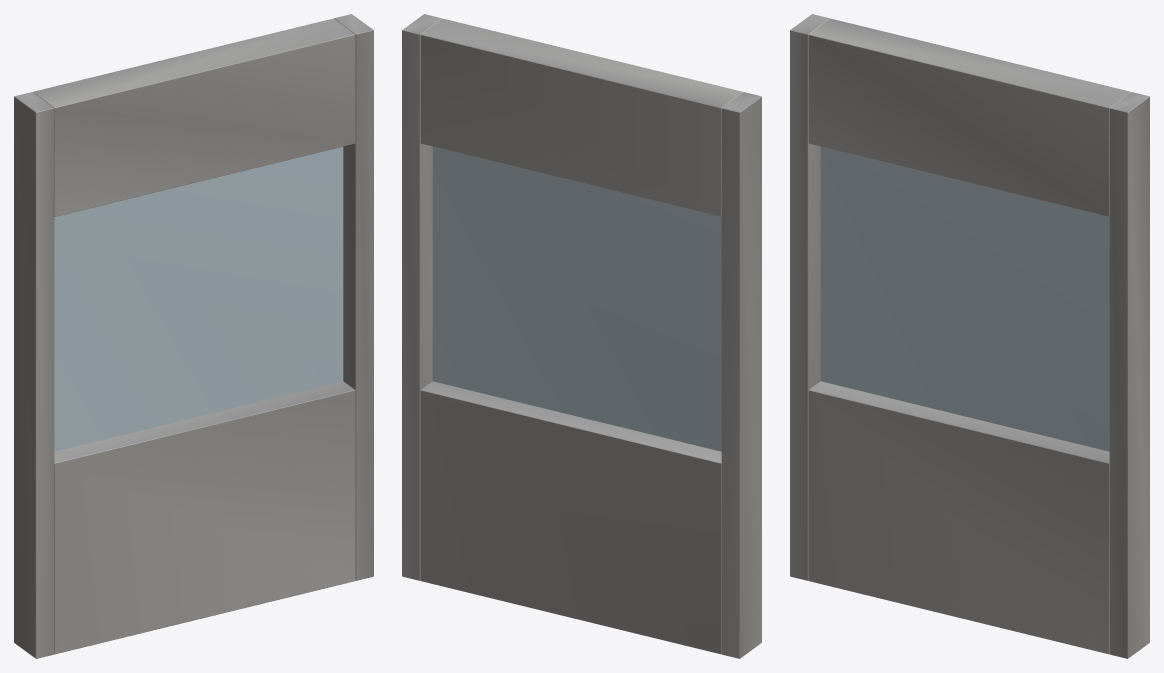
File: window_delco_01_w220.glb
The picture shows the model from 3 angles, left to right: view 1: azimuth 30°, elevation 25°; view 2: azimuth 150°, elevation 25°; view 3: azimuth 330°, elevation 25°; orthographic projection.
Visible parts, largest first — view 1: Window_Glass, Window_Sill, Window_Header, Window_Jamb_L, Window_Jamb_R; view 2: Window_Glass, Window_Sill, Window_Header, Window_Jamb_L, Window_Jamb_R; view 3: Window_Glass, Window_Sill, Window_Header, Window_Jamb_R, Window_Jamb_L.
Boxes of the visible parts, left/top/right/bottom form: Window_Glass: left=54, top=146, right=343, bottom=451; Window_Sill: left=54, top=381, right=355, bottom=654; Window_Header: left=32, top=18, right=355, bottom=216; Window_Jamb_L: left=14, top=92, right=54, bottom=658; Window_Jamb_R: left=334, top=14, right=373, bottom=580; Window_Glass: left=432, top=146, right=721, bottom=451; Window_Sill: left=420, top=381, right=721, bottom=654; Window_Header: left=420, top=18, right=743, bottom=216; Window_Jamb_L: left=721, top=92, right=761, bottom=658; Window_Jamb_R: left=402, top=14, right=441, bottom=580; Window_Glass: left=820, top=146, right=1109, bottom=451; Window_Sill: left=808, top=381, right=1109, bottom=654; Window_Header: left=808, top=18, right=1131, bottom=216; Window_Jamb_R: left=1109, top=92, right=1149, bottom=658; Window_Jamb_L: left=790, top=14, right=829, bottom=580.
Size of what is drawn, in the model's own units: 2.2 by 3.4 by 0.25.
